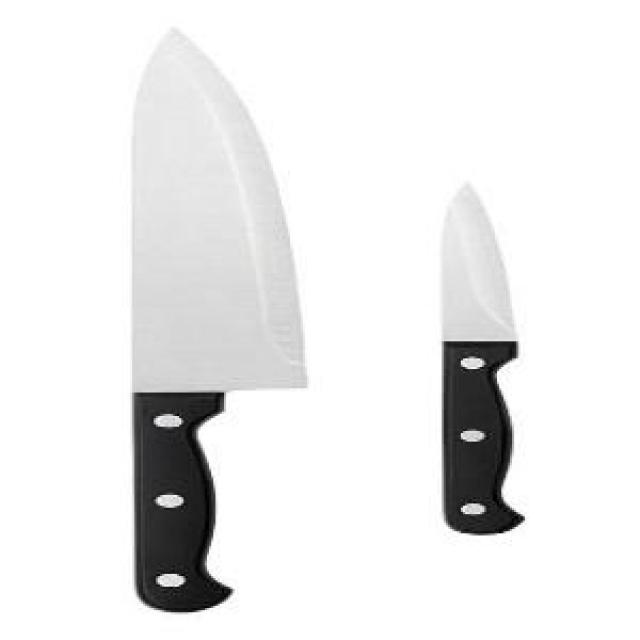knife: (128, 28, 308, 613), (433, 179, 540, 538)
